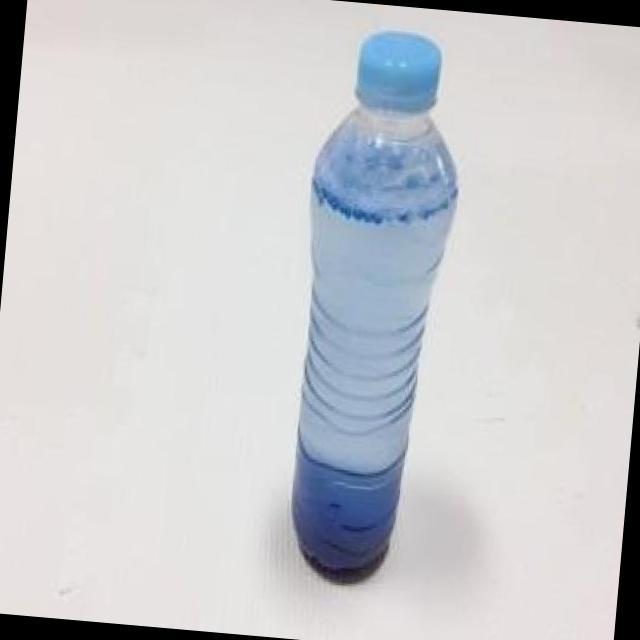bottle: (247, 5, 477, 612)
cap: (344, 20, 450, 120)
